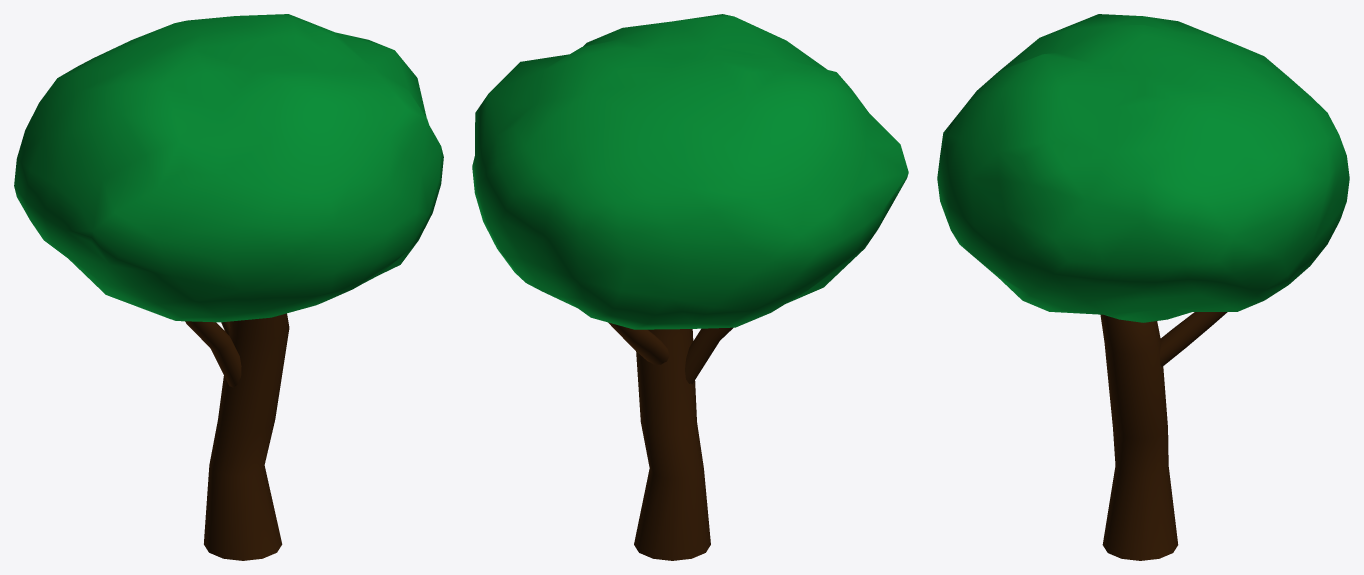
File: _ree.fbx
The picture shows the model from 3 angles, left to right: view 1: azimuth 30°, elevation 25°; view 2: azimuth 150°, elevation 25°; view 3: azimuth 270°, elevation 25°; orthographic projection. The views are drawn at different scales.
Visible parts, largest first — view 1: pCylinder22; view 2: pCylinder22; view 3: pCylinder22.
Part boxes in pixels (x1,y1,x2,y2): pCylinder22: (14, 14, 443, 560); pCylinder22: (472, 14, 908, 560); pCylinder22: (937, 14, 1349, 560).
Bounding box in the file's own units: 15.74 × 20.35 × 15.62.
